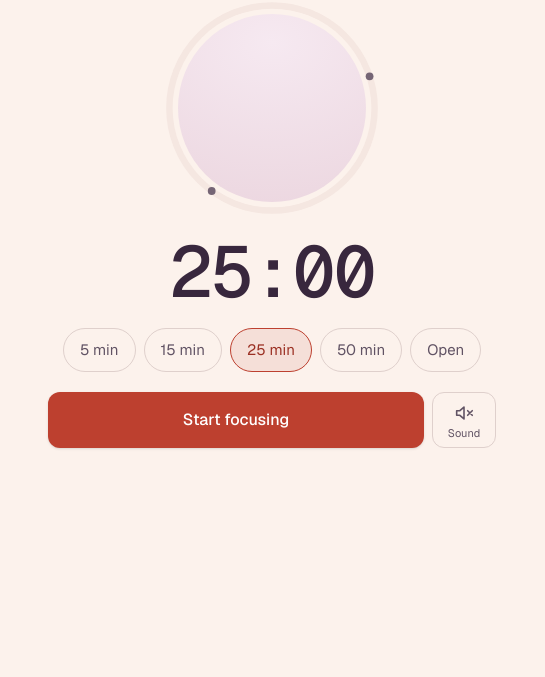
Scenario: FocusTimer session shape › shows the ring, the courtesy earnings, and the next rung while running
Click the button "Start focusing" at point(236, 420), box x1=48 y1=392 x2=424 y2=448
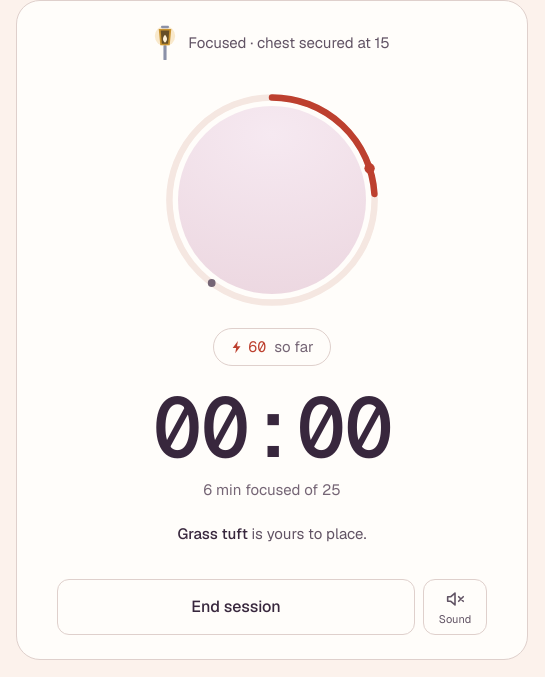
Result: the text "6 min focused of 25" is shown at x1=203 y1=480 x2=341 y2=499
Result: the text "60" is shown at x1=230 y1=335 x2=266 y2=359
Result: the text "so far" is shown at x1=274 y1=335 x2=314 y2=359
